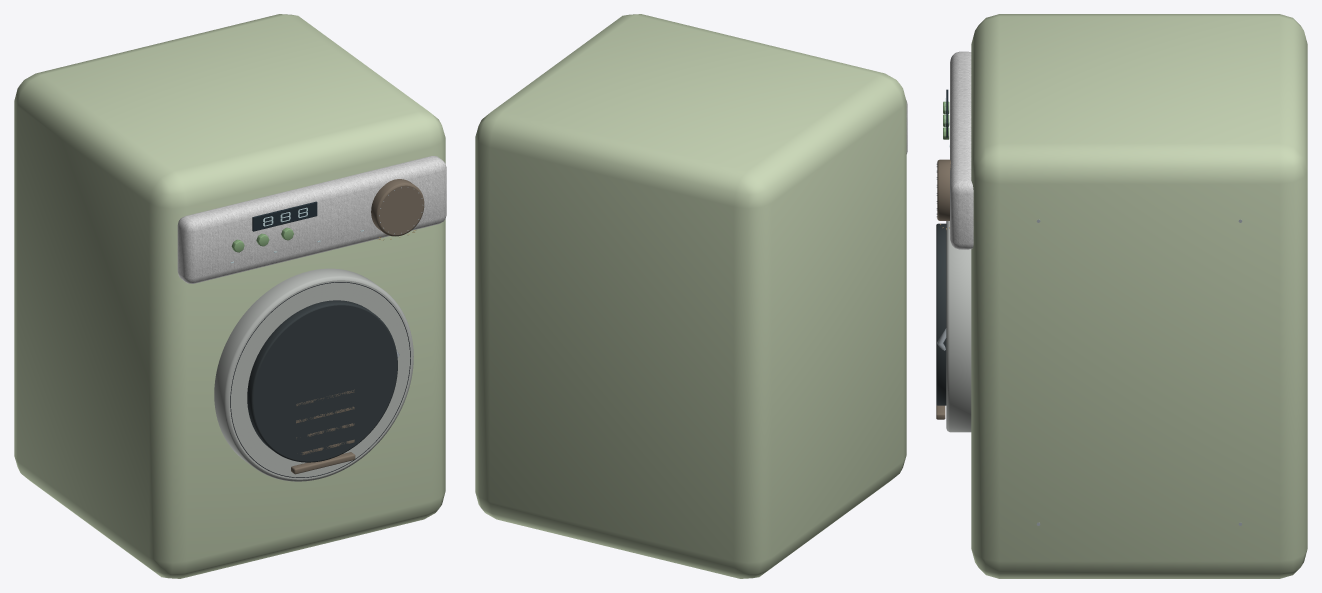
File: dryer.glb
3 renders of one model, left to right at view 1: azimuth 30°, elevation 25°; view 2: azimuth 150°, elevation 25°; view 3: azimuth 270°, elevation 25°, orthographic. The views are drawn at different scales.
Visible parts, largest first — view 1: catalog_surface_RealismUV, catalog_surface_UVMap; view 2: catalog_surface_RealismUV; view 3: catalog_surface_RealismUV, catalog_surface_UVMap.
Boxes of the visible parts, left/top/right/bottom form: catalog_surface_RealismUV: left=14, top=14, right=446, bottom=578; catalog_surface_UVMap: left=230, top=201, right=397, bottom=462; catalog_surface_RealismUV: left=475, top=14, right=907, bottom=578; catalog_surface_RealismUV: left=936, top=14, right=1307, bottom=578; catalog_surface_UVMap: left=936, top=89, right=949, bottom=405.
Size of the model in its own units: 0.68 by 0.9 by 0.7.
11 materials, 1 textured.
